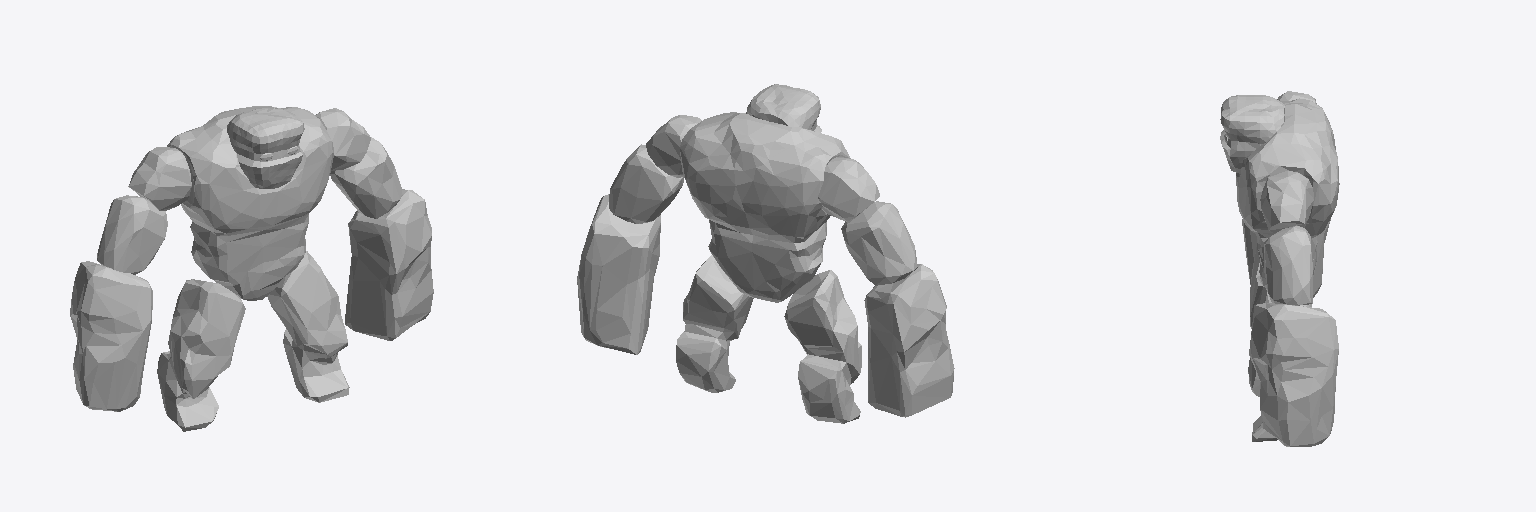
The model's file is Stone.obj.
3 views of the same model, side by side, from view 1: azimuth 30°, elevation 25°; view 2: azimuth 150°, elevation 25°; view 3: azimuth 270°, elevation 25° (orthographic).
Parts seen in each view (by area): view 1: hands&leg.001_ice.003, torso.001_ice.005, head.001_ice.004; view 2: hands&leg.001_ice.003, torso.001_ice.005, head.001_ice.004; view 3: hands&leg.001_ice.003, torso.001_ice.005, head.001_ice.004.
Boxes of the visible parts, x1,y1,x2,y2 form: hands&leg.001_ice.003: [70, 108, 433, 431]; torso.001_ice.005: [167, 106, 333, 300]; head.001_ice.004: [227, 108, 304, 188]; hands&leg.001_ice.003: [577, 115, 954, 423]; torso.001_ice.005: [680, 112, 849, 302]; head.001_ice.004: [746, 84, 821, 132]; hands&leg.001_ice.003: [1242, 91, 1338, 446]; torso.001_ice.005: [1236, 98, 1339, 291]; head.001_ice.004: [1220, 95, 1284, 173].
Size of the model in its own units: 11.9 by 9.58 by 3.41.